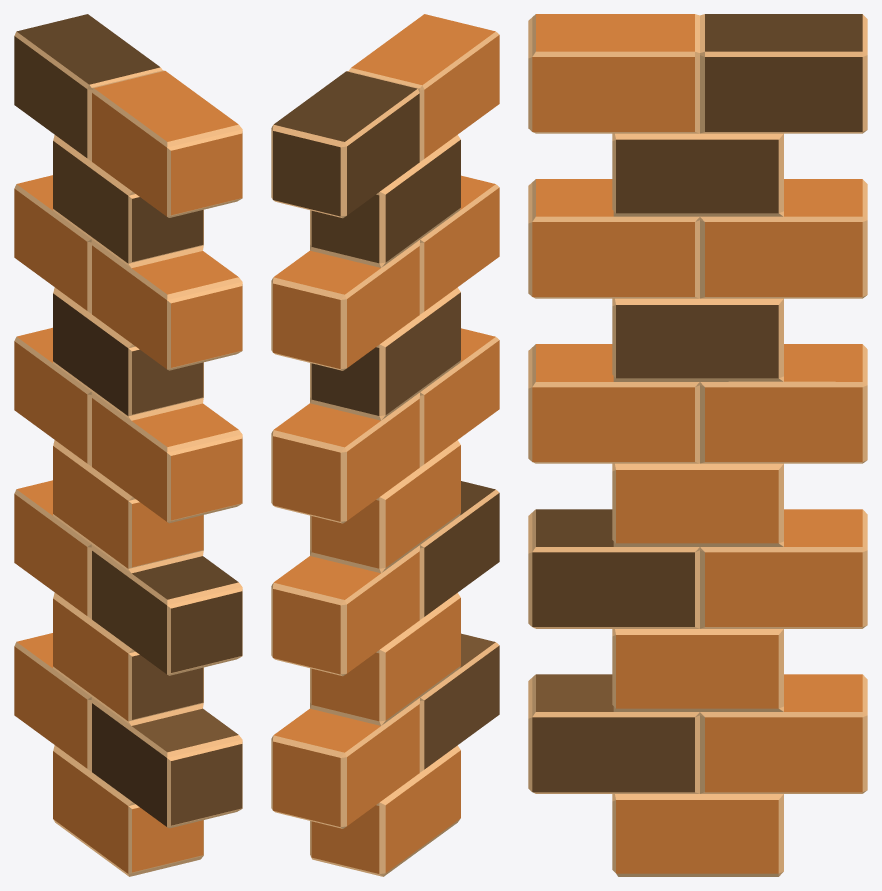
Rendered from Wall_Edge.fbx.
3 renders of one model, left to right at view 1: azimuth 30°, elevation 25°; view 2: azimuth 150°, elevation 25°; view 3: azimuth 270°, elevation 25°, orthographic. The views are drawn at different scales.
Parts seen in each view (by area): view 1: Cube; view 2: Cube; view 3: Cube.
Part boxes in pixels (x1,y1,x2,y2): Cube: (14, 14, 242, 876); Cube: (271, 14, 499, 876); Cube: (528, 14, 867, 876).
Bounding box in the file's own units: 93.67 × 905 × 337.
